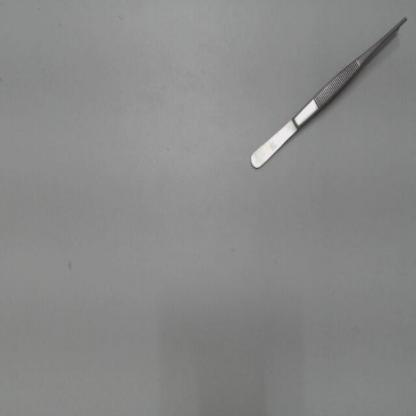Gillies Toothed Dissector: (246, 10, 412, 172)
